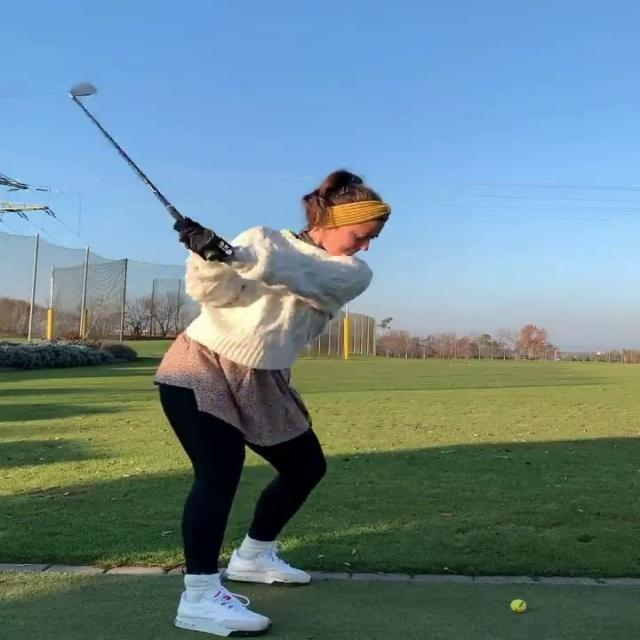golf ball: (508, 597, 528, 612)
golf club-handle: (72, 83, 208, 244)
golf club-head: (74, 81, 97, 104)
